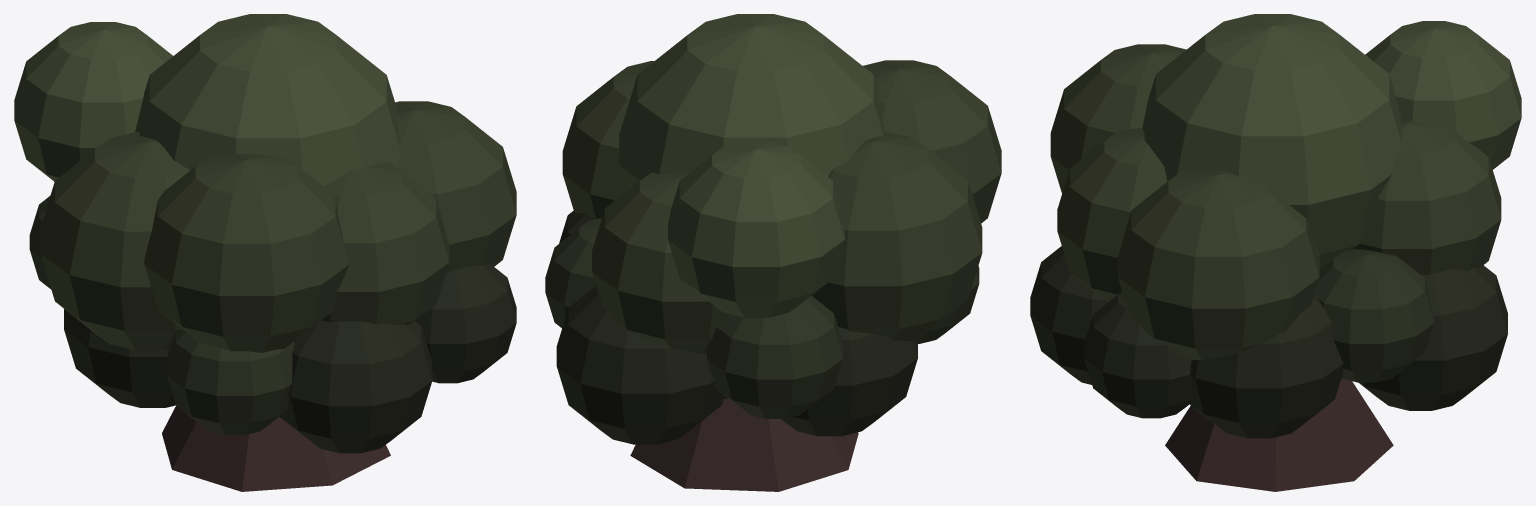
File: Bush.gltf
The picture shows the model from 3 angles, left to right: view 1: azimuth 30°, elevation 25°; view 2: azimuth 150°, elevation 25°; view 3: azimuth 270°, elevation 25°; orthographic projection.
Parts seen in each view (by area): view 1: sphere (×11), mesh; view 2: sphere (×11), mesh; view 3: sphere (×11), mesh.
Boxes of the visible parts, left/top/right/bottom form: sphere (×11): left=14, top=14, right=516, bottom=453; mesh: left=162, top=405, right=390, bottom=491; sphere (×11): left=545, top=14, right=1001, bottom=444; mesh: left=630, top=396, right=858, bottom=491; sphere (×11): left=1030, top=14, right=1521, bottom=438; mesh: left=1165, top=378, right=1393, bottom=491.
Size of the model in its own units: 0.2219 by 0.2125 by 0.2281.
1 material, 1 textured.
